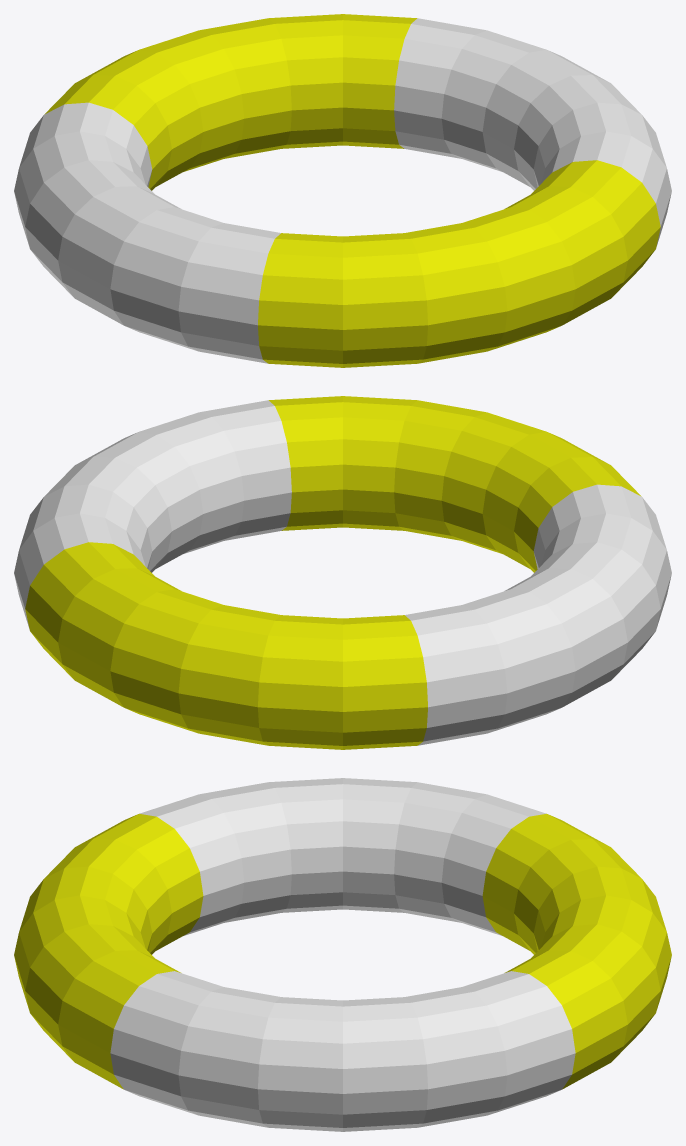
Rendered from LifeRingYellowFBX.fbx.
3 views of the same model, one above another, from view 1: azimuth 30°, elevation 25°; view 2: azimuth 150°, elevation 25°; view 3: azimuth 270°, elevation 25° (orthographic).
Visible parts, largest first — view 1: LifeRing; view 2: LifeRing; view 3: LifeRing.
Boxes of the visible parts, <box> form: LifeRing: <box>14,14,671,367</box>; LifeRing: <box>14,396,671,749</box>; LifeRing: <box>14,778,671,1131</box>.
Bounding box in the file's own units: 2.5 × 0.5 × 2.5.
